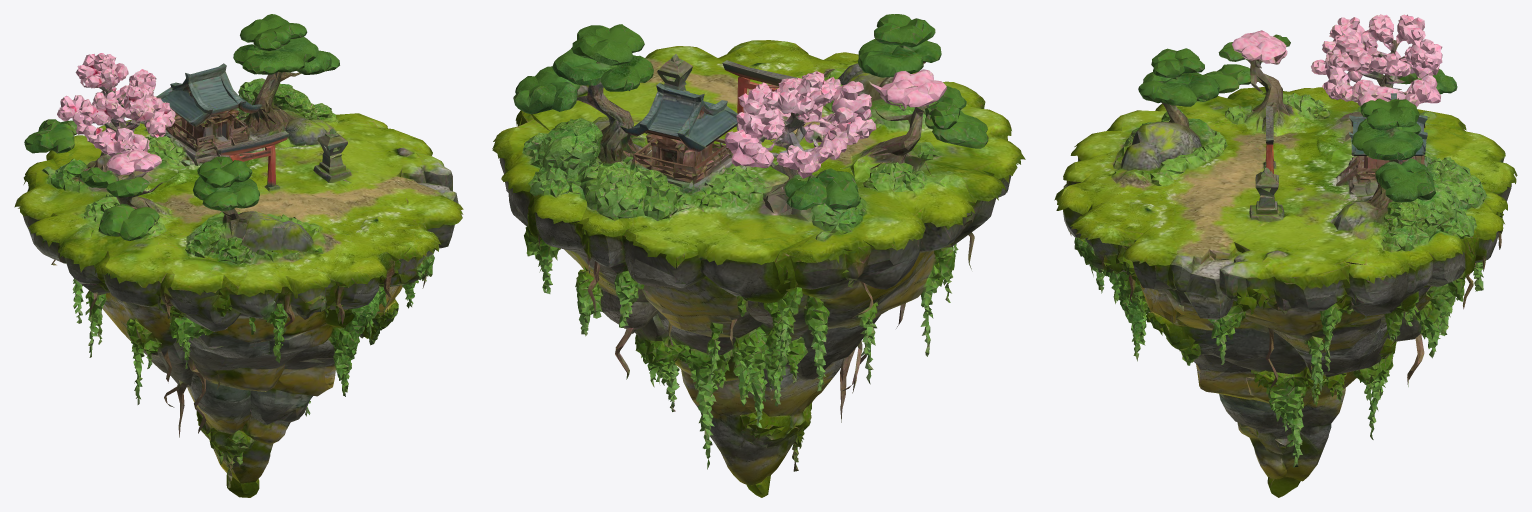
File: falls.glb
The picture shows the model from 3 angles, left to right: view 1: azimuth 30°, elevation 25°; view 2: azimuth 150°, elevation 25°; view 3: azimuth 270°, elevation 25°; orthographic projection. The views are drawn at different scales.
Bounding box in the file's own units: 1.83 × 1.89 × 1.82.
1 material, 1 textured.
